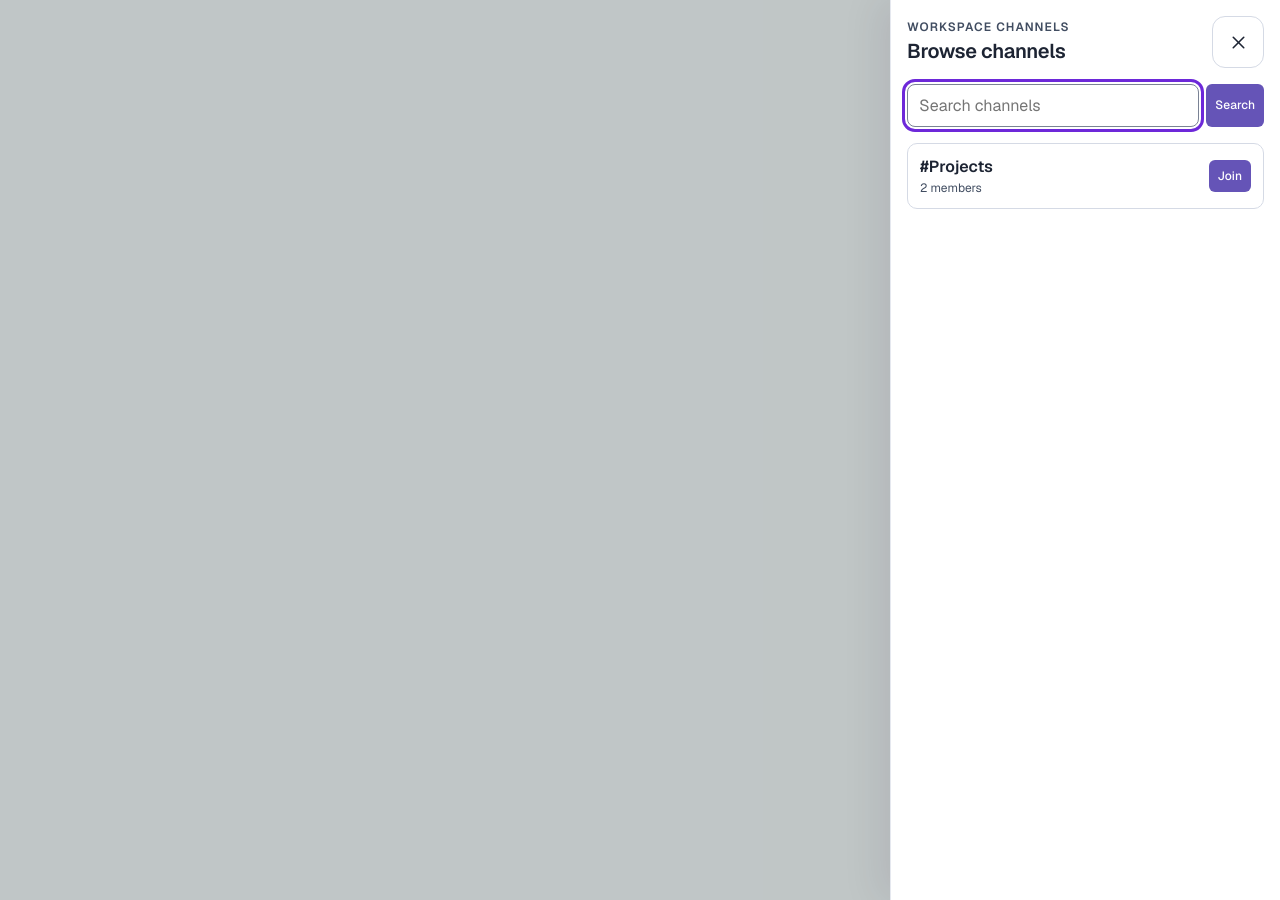
Test: ChannelBrowser › joins a public channel and changes the action to Open
Click the button "Join".
click(1230, 176)  # box [1209,160,1251,192]
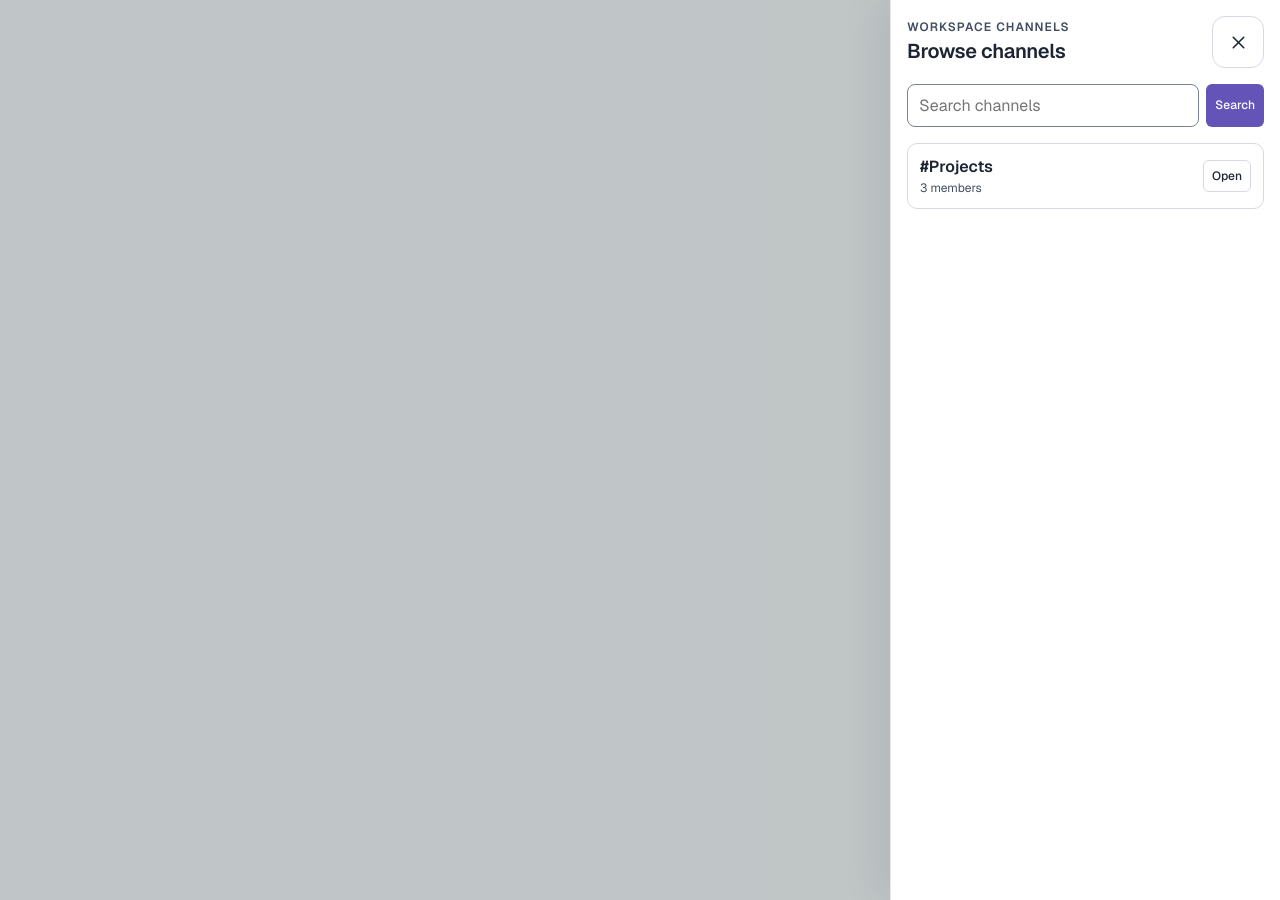
Result: the button "Open" is shown at [1203,160,1251,192]
